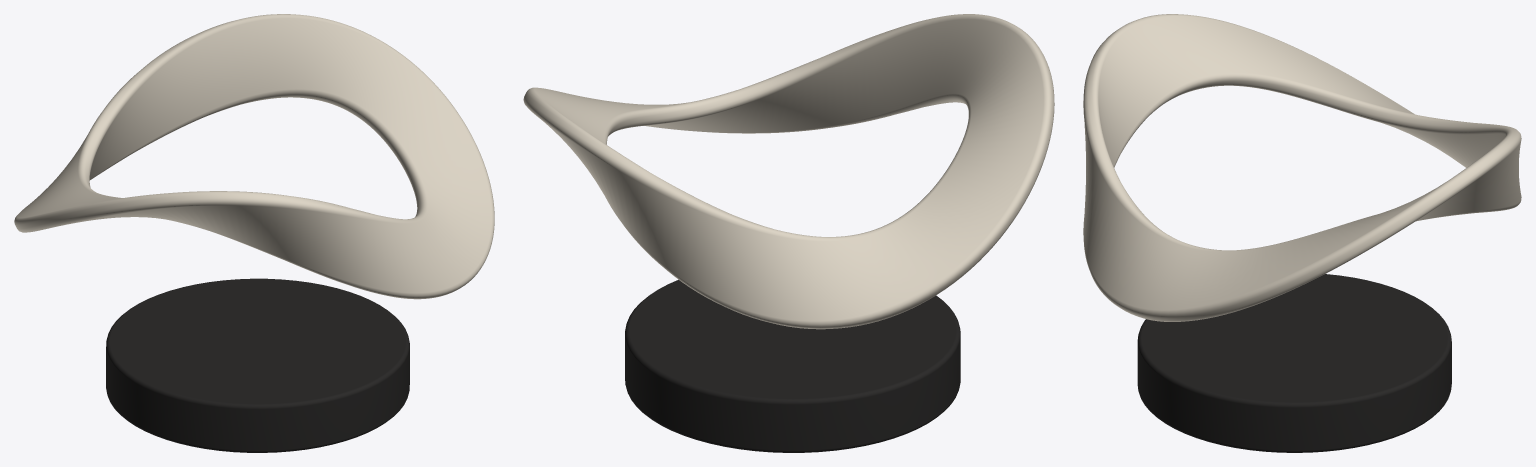
The model's file is VSV-008_ribbon-loop__ribbon-revolve.glb.
3 views of the same model, side by side, from view 1: azimuth 30°, elevation 25°; view 2: azimuth 150°, elevation 25°; view 3: azimuth 270°, elevation 25° (orthographic). The views are drawn at different scales.
Parts seen in each view (by area): view 1: VSV-008_ribbon-loop__ribbon, VSV-008_ribbon-loop__support; view 2: VSV-008_ribbon-loop__ribbon, VSV-008_ribbon-loop__support; view 3: VSV-008_ribbon-loop__ribbon, VSV-008_ribbon-loop__support.
Part boxes in pixels (x1=…): VSV-008_ribbon-loop__ribbon: x1=14, y1=14, x2=494, y2=299; VSV-008_ribbon-loop__support: x1=106, y1=278, x2=409, y2=452; VSV-008_ribbon-loop__ribbon: x1=523, y1=14, x2=1054, y2=329; VSV-008_ribbon-loop__support: x1=625, y1=279, x2=960, y2=452; VSV-008_ribbon-loop__ribbon: x1=1083, y1=14, x2=1521, y2=321; VSV-008_ribbon-loop__support: x1=1137, y1=274, x2=1451, y2=452.
Size of the model in its own units: 2.18 by 1.43 by 1.9.
